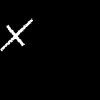single_crochet: (1, 20, 32, 50)
